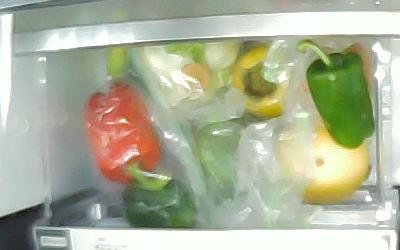grapefruit_vinyl: (278, 119, 369, 205)
lettuce_vinyl: (137, 38, 240, 112)
paprika: (296, 39, 375, 150)
paprika_vinyl: (84, 81, 170, 192), (193, 122, 244, 204), (123, 172, 197, 228)
persimmon_vinyl: (234, 45, 290, 119)
